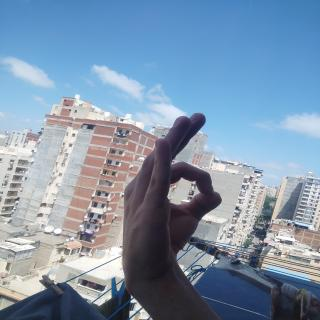Space: (120, 108, 228, 287)
